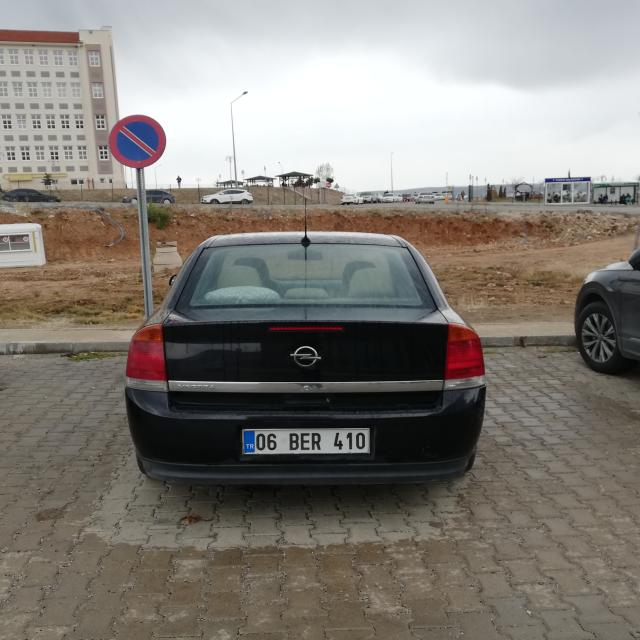license_plate: (243, 430, 370, 455)
